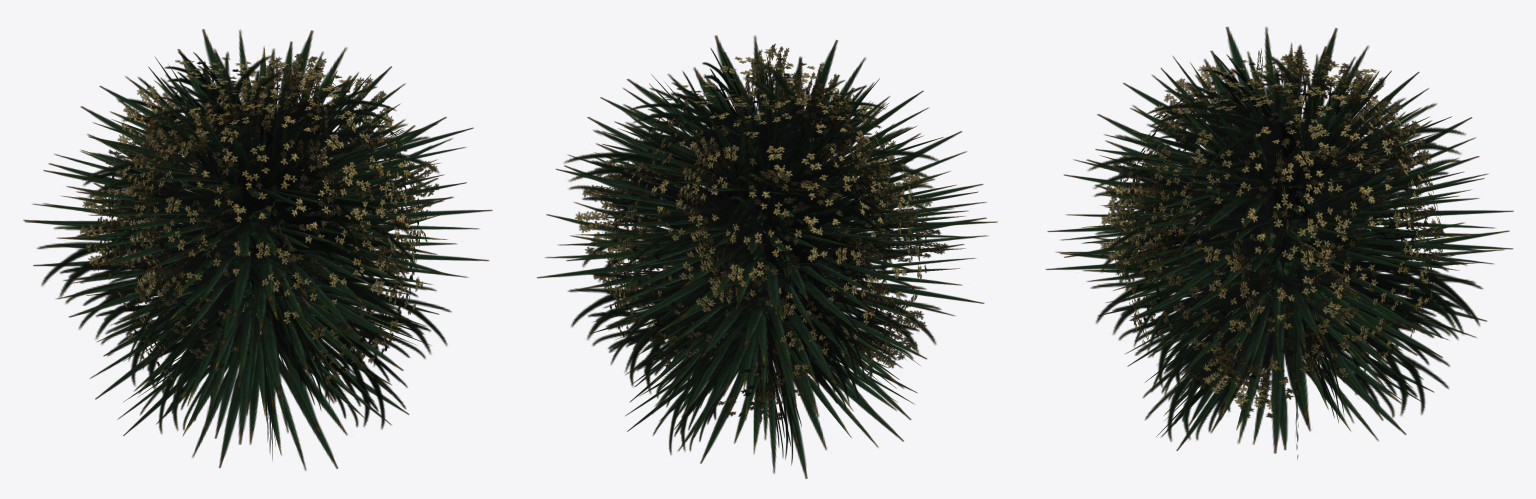
Rendered from Plant_I.glb.
3 renders of one model, left to right at view 1: azimuth 30°, elevation 25°; view 2: azimuth 150°, elevation 25°; view 3: azimuth 270°, elevation 25°, orthographic.
Parts seen in each view (by area): view 1: Plant_I_instance.001; view 2: Plant_I_instance.001; view 3: Plant_I_instance.001.
Boxes of the visible parts, x1=… form: Plant_I_instance.001: x1=23, y1=29, x2=492, y2=470; Plant_I_instance.001: x1=537, y1=35, x2=997, y2=478; Plant_I_instance.001: x1=1045, y1=26, x2=1513, y2=459.
Size of the model in its own units: 0.9106 by 0.8289 by 0.9125.
1 material, 1 textured.
